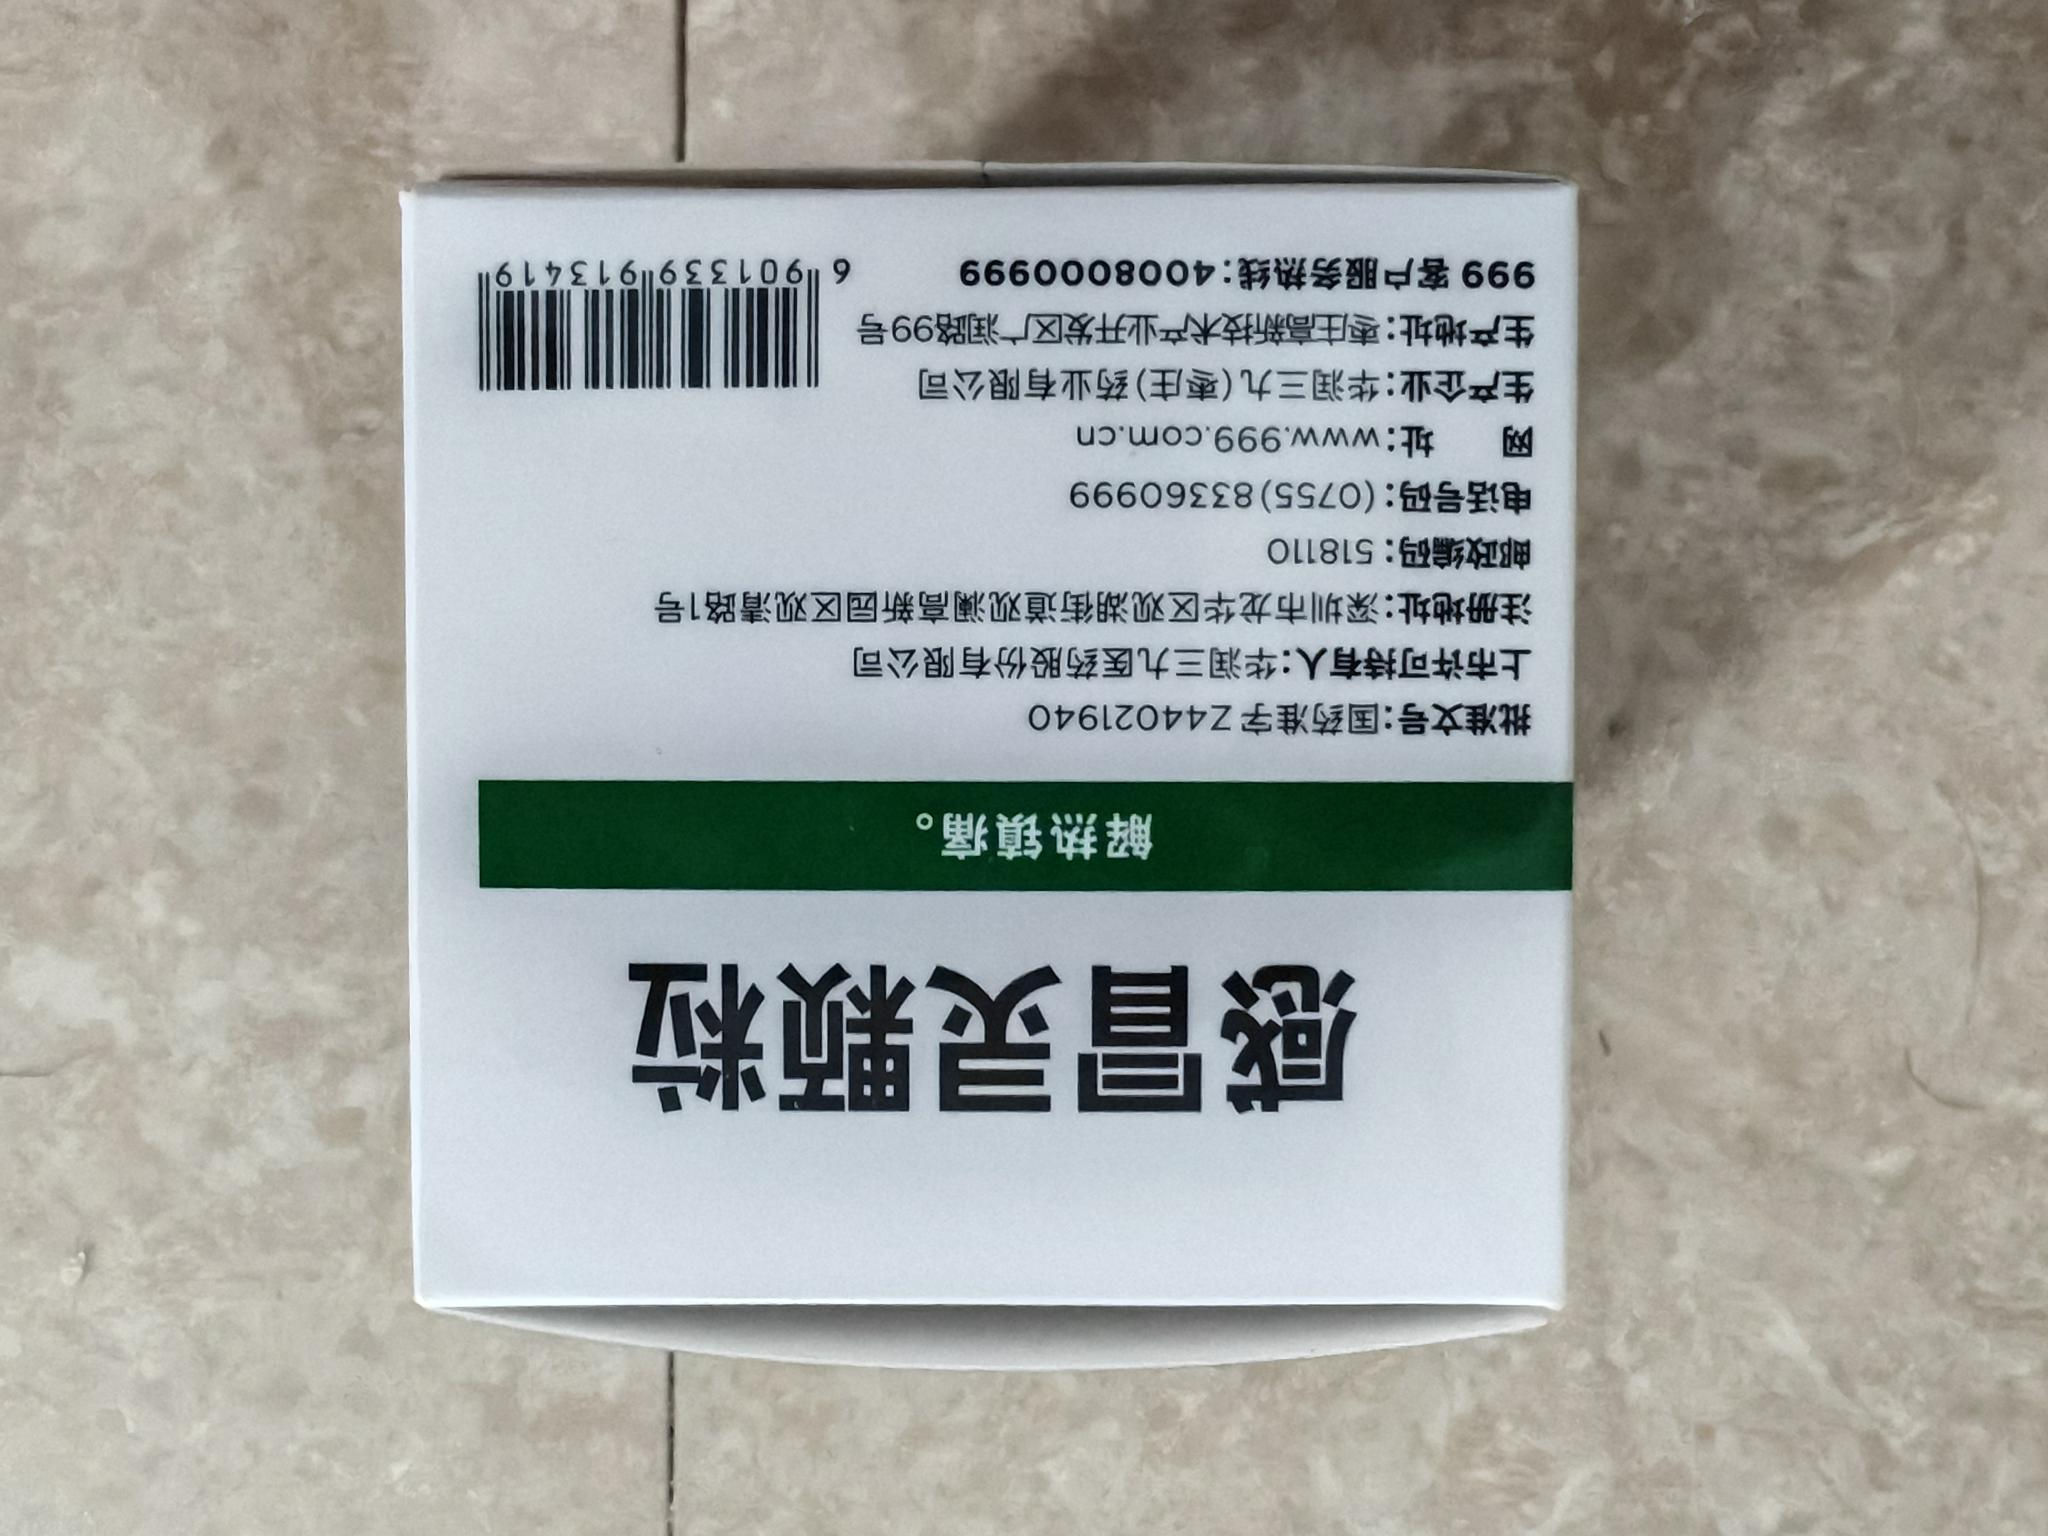Medicine3: (355, 132, 1614, 1397)
